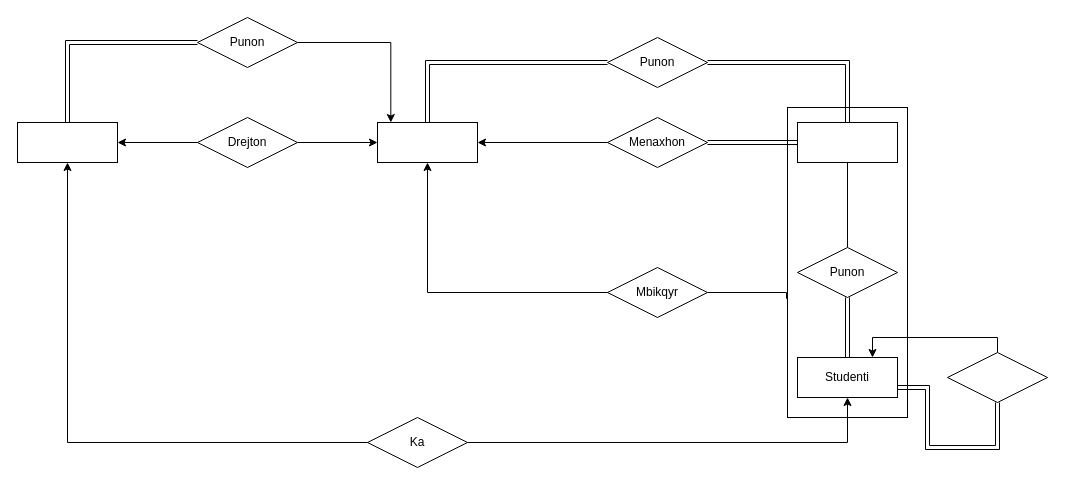
The diagram is 1065 pixels wide and 485 high, and some of its shapes have lost their labels. The centre of each missing label's shape, as x and y in pixels:
"Departamenti" belongs at pixel 67 142.
"Kshillon" belongs at pixel 997 377.
"Profesori" belongs at pixel 427 142.
"Projekti" belongs at pixel 847 142.
